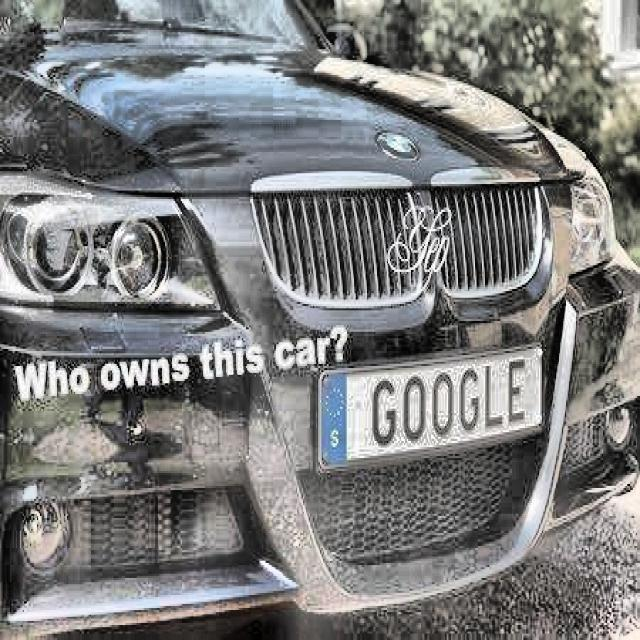license_plate: (322, 353, 534, 456)
